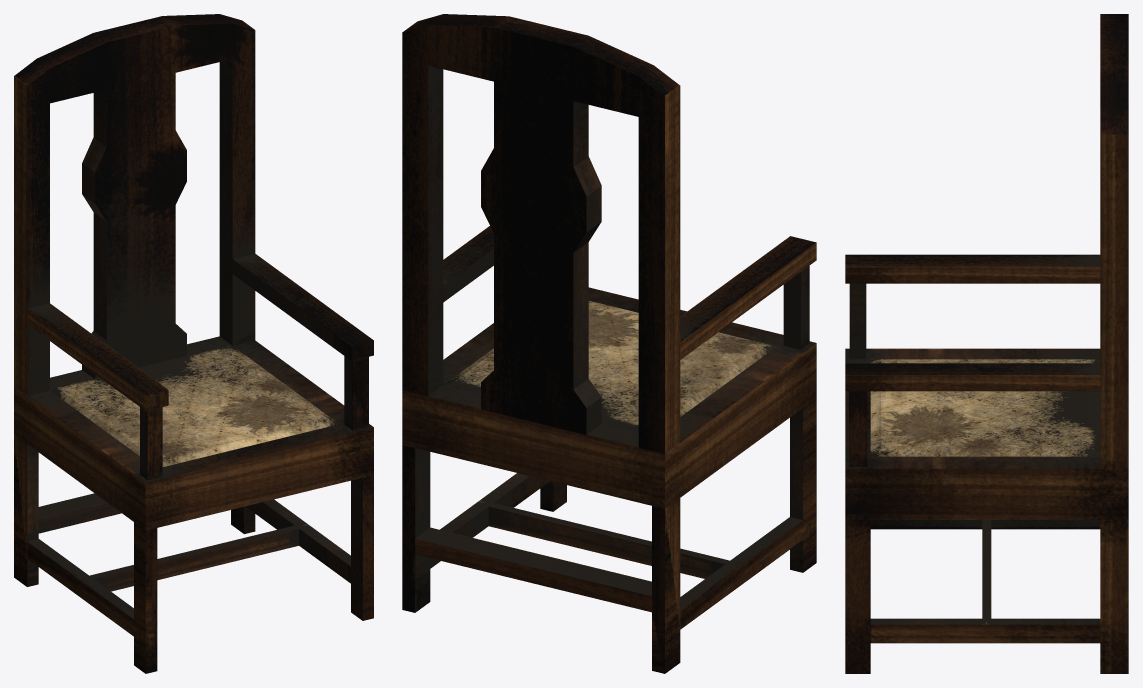
Rendered from Chair_01.fbx.
3 renders of one model, left to right at view 1: azimuth 30°, elevation 25°; view 2: azimuth 150°, elevation 25°; view 3: azimuth 270°, elevation 25°, orthographic. The views are drawn at different scales.
Visible parts, largest first — view 1: Cube; view 2: Cube; view 3: Cube.
Part boxes in pixels (x1,y1,x2,y2): Cube: [14, 14, 373, 673]; Cube: [402, 14, 816, 673]; Cube: [845, 14, 1128, 673].
Bounding box in the file's own units: 44.65 × 98.22 × 44.65.
